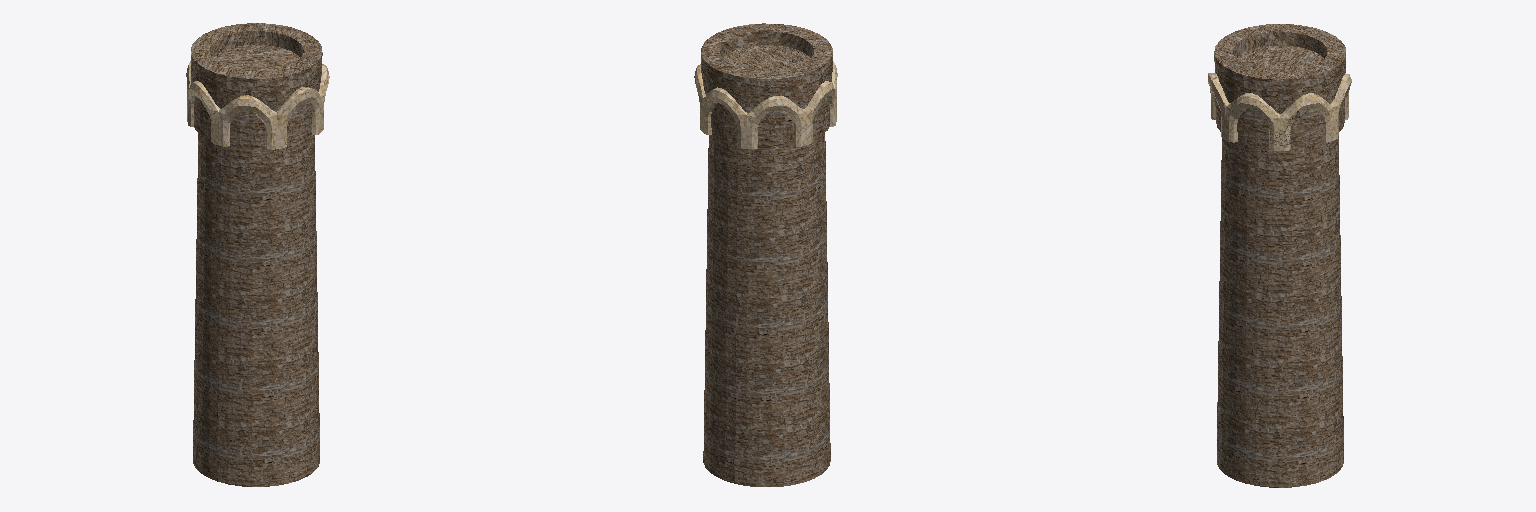
The picture shows the model from 3 angles: view 1: azimuth 30°, elevation 25°; view 2: azimuth 150°, elevation 25°; view 3: azimuth 270°, elevation 25°; orthographic projection.
Visible parts, largest first — view 1: Tower.000_TowerMesh.009; view 2: Tower.000_TowerMesh.009; view 3: Tower.000_TowerMesh.009.
Part boxes in pixels (x1,y1,x2,y2): Tower.000_TowerMesh.009: (186,23,329,486); Tower.000_TowerMesh.009: (694,23,837,486); Tower.000_TowerMesh.009: (1208,24,1351,487).
Size of the model in its own units: 11.01 by 35 by 11.17.
Materials: 1 (1 with a texture image).